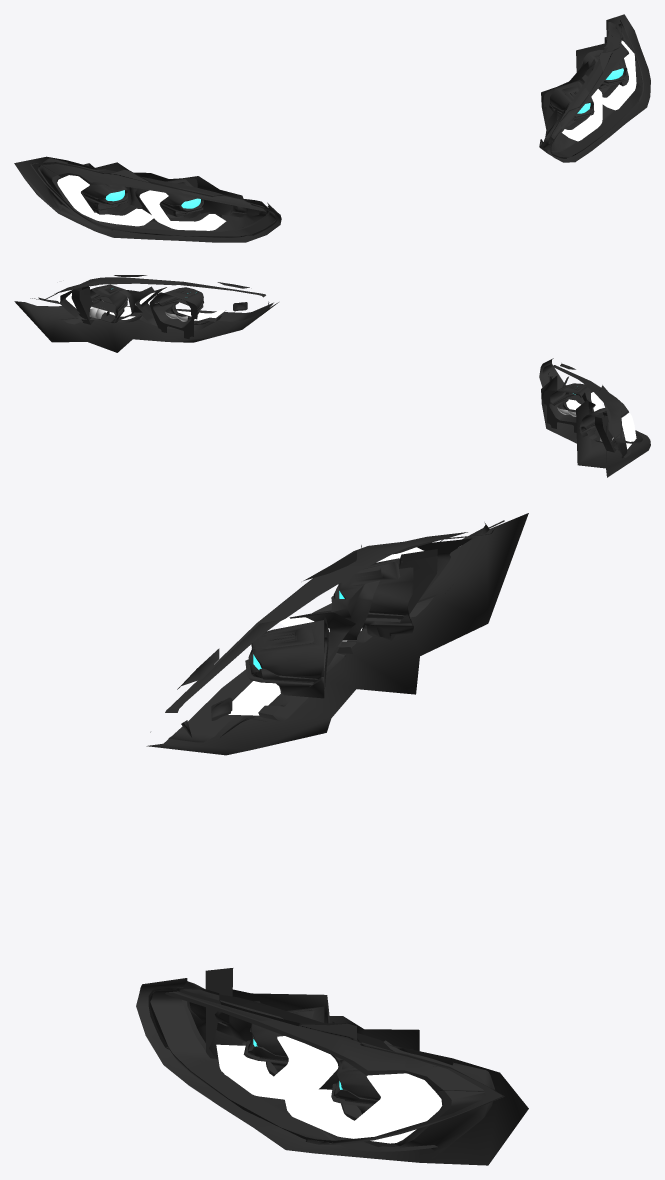
The model's file is headlights.glb.
The picture shows the model from 3 angles, top to bottom: view 1: azimuth 30°, elevation 25°; view 2: azimuth 150°, elevation 25°; view 3: azimuth 270°, elevation 25°; orthographic projection. The views are drawn at different scales.
Visible parts, largest first — view 1: headLights; view 2: headLights; view 3: headLights.
Part boxes in pixels (left/top/right/bottom): headLights: left=14, top=14, right=650, bottom=242; headLights: left=14, top=275, right=650, bottom=477; headLights: left=136, top=513, right=528, bottom=1165.
Size of the model in its own units: 1.69 by 0.1752 by 0.4724.
